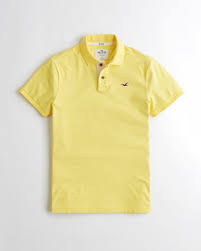C_polo shirt: (13, 35, 184, 216)
